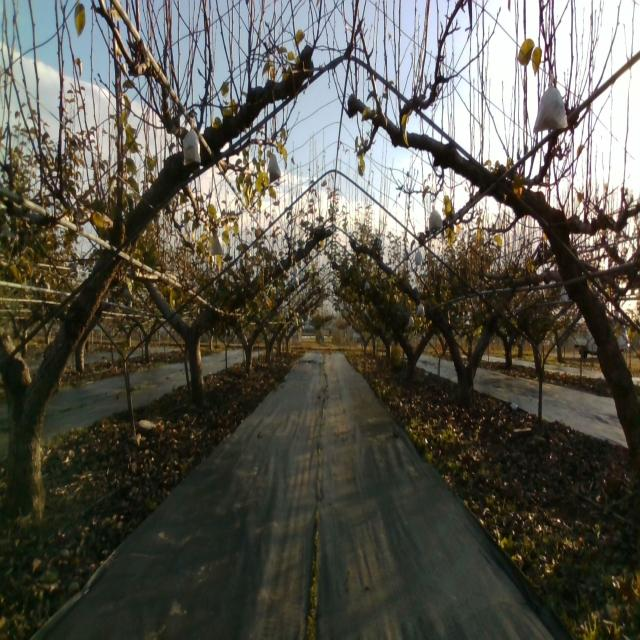pearbags: (532, 72, 568, 136), (182, 117, 202, 165), (268, 153, 280, 184), (429, 205, 443, 231), (210, 234, 225, 256)
